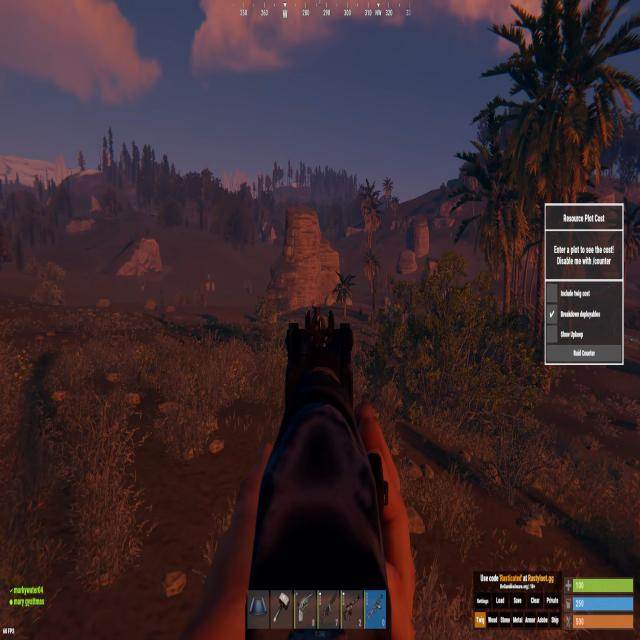Player: (311, 306, 326, 330)
